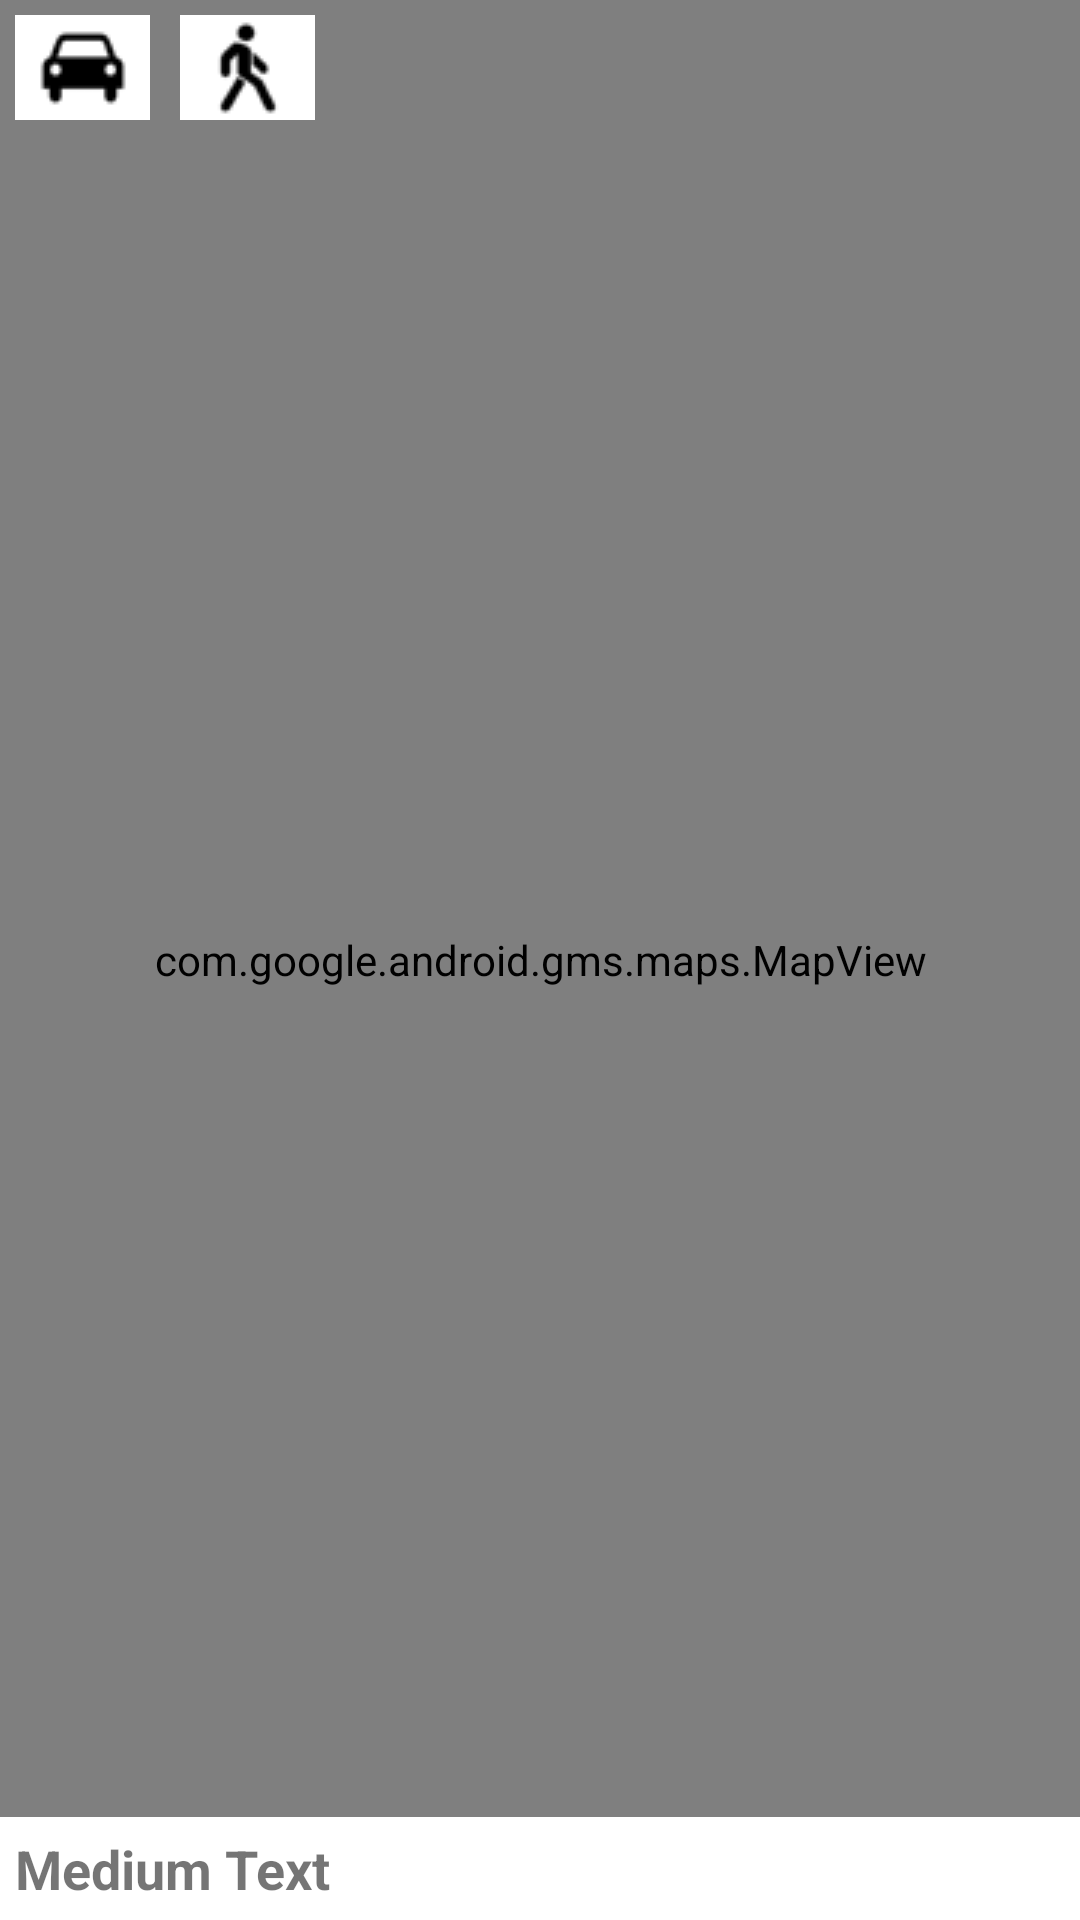

Screen size 1080 × 1920. Icon name, then its center in pixels as [x,y]:
driving: [82,67]
walking: [247,67]
